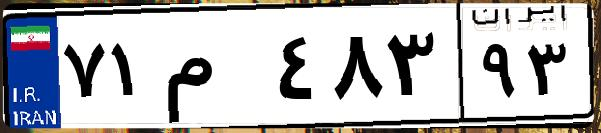1: (110, 28, 158, 98)
3: (385, 28, 445, 110), (525, 38, 570, 115)
4: (270, 28, 330, 110)
7: (57, 26, 110, 100)
8: (330, 28, 385, 110)
9: (475, 38, 525, 113)
م: (158, 20, 270, 120)
